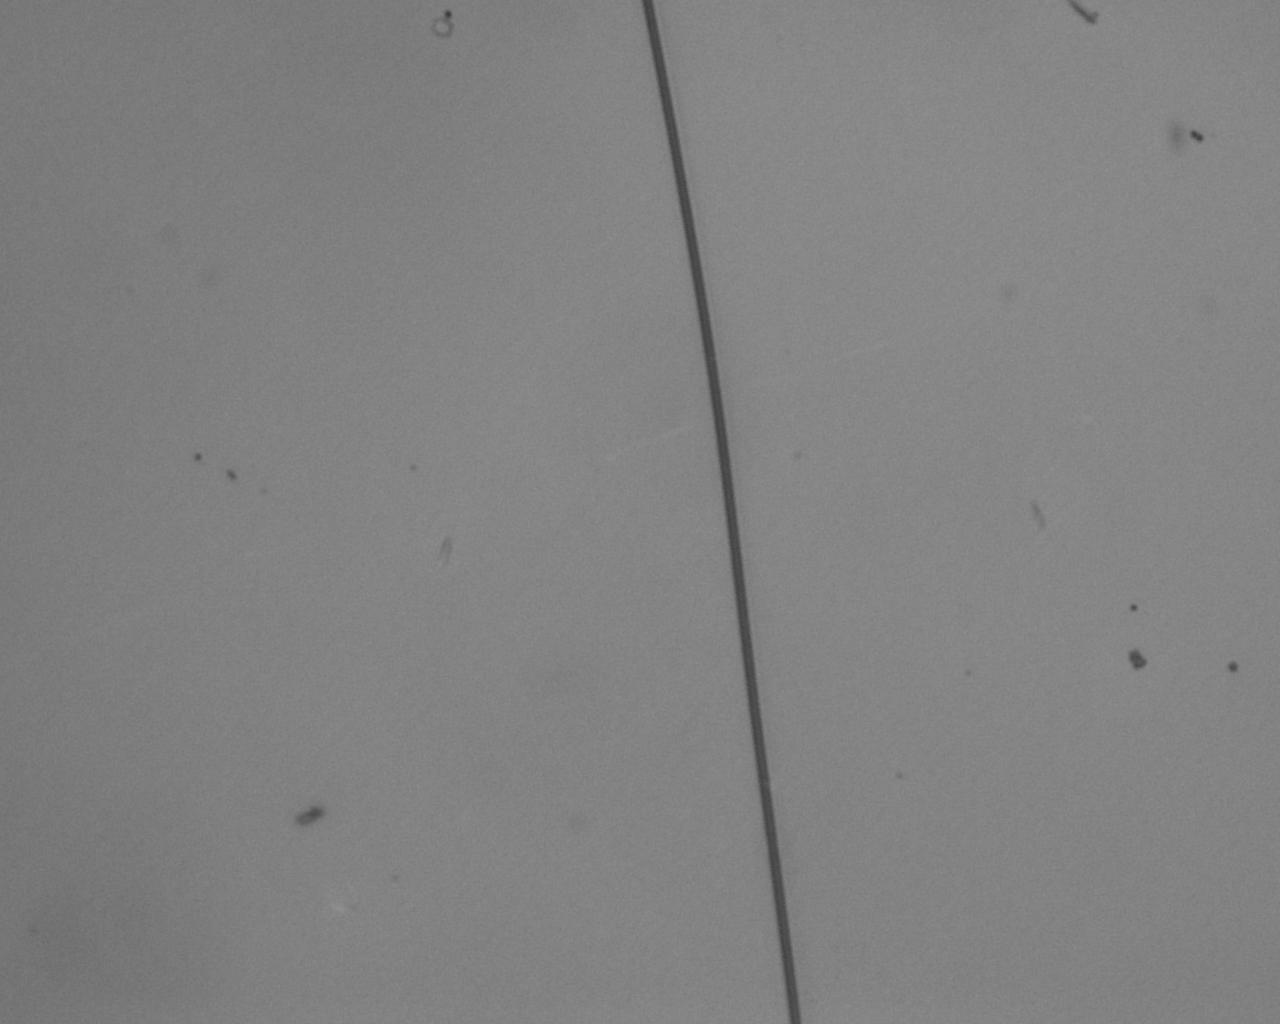fiber: (641, 0, 804, 1024)
